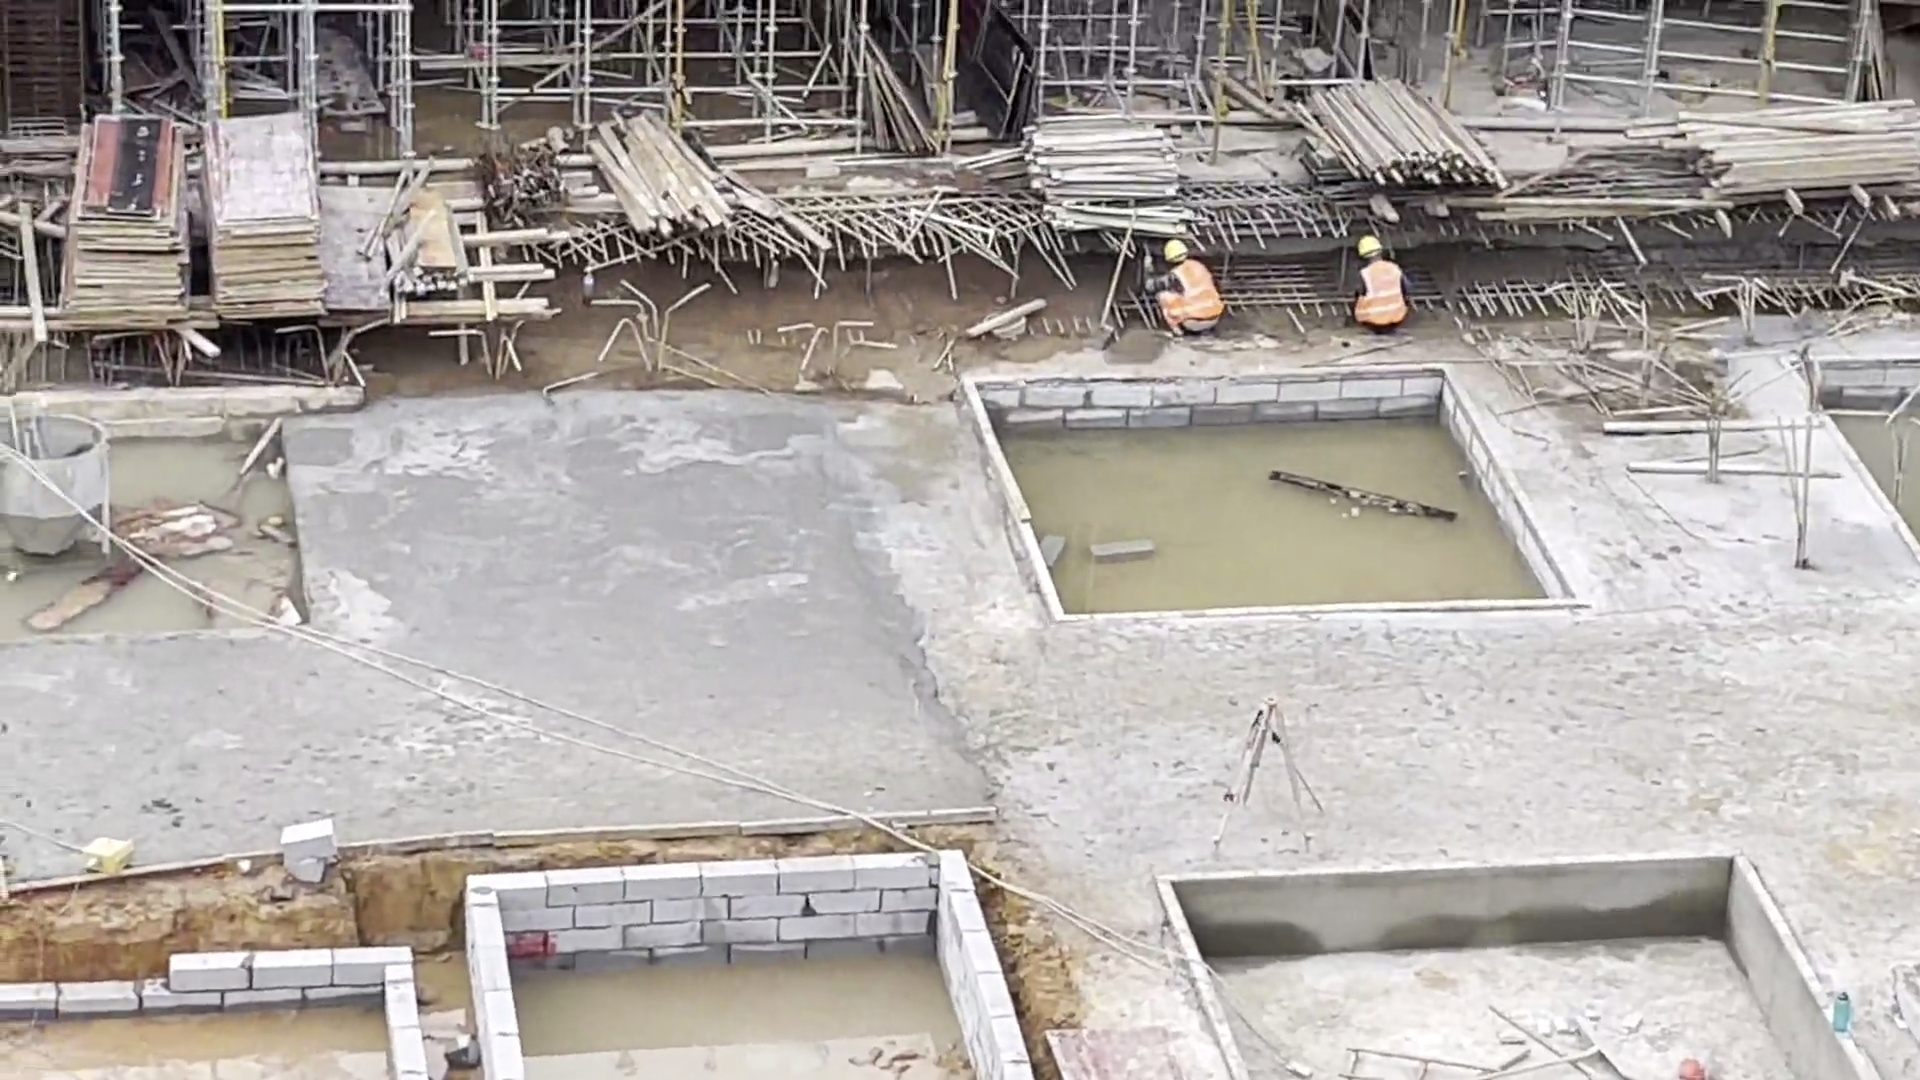board: (67, 106, 332, 323)
helmet: (1155, 233, 1201, 256), (1354, 231, 1385, 256)
person: (1141, 235, 1236, 347), (1339, 225, 1415, 337)
scaffold: (1310, 71, 1515, 205)
vest: (1153, 260, 1227, 326), (1353, 263, 1414, 332)
wood: (1677, 87, 1918, 206), (592, 114, 732, 241), (1033, 117, 1187, 227)
